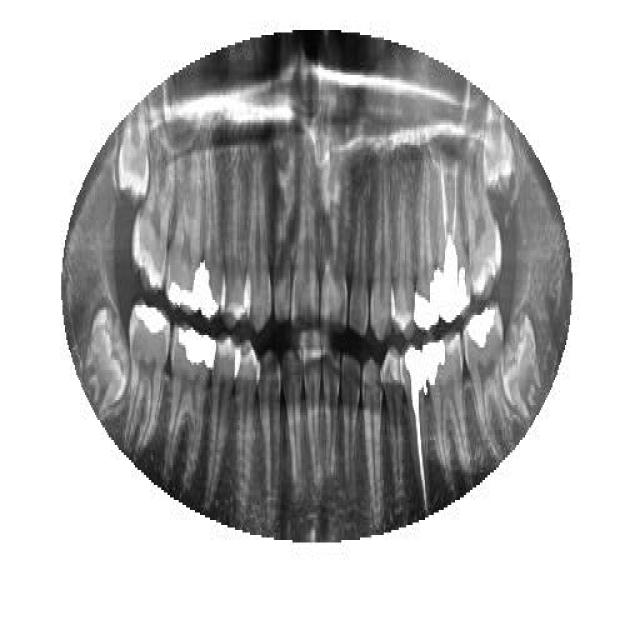Fillings: (164, 318, 216, 492), (462, 308, 514, 452), (122, 300, 170, 455), (422, 322, 468, 480), (166, 145, 204, 317), (412, 150, 438, 332), (201, 148, 224, 322)
Impacted Tooth: (85, 295, 133, 420), (502, 302, 542, 422), (112, 102, 152, 208)
Implant: (435, 153, 471, 325), (401, 340, 431, 512)
